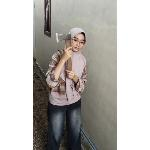Kapak: (52, 30, 76, 80)
